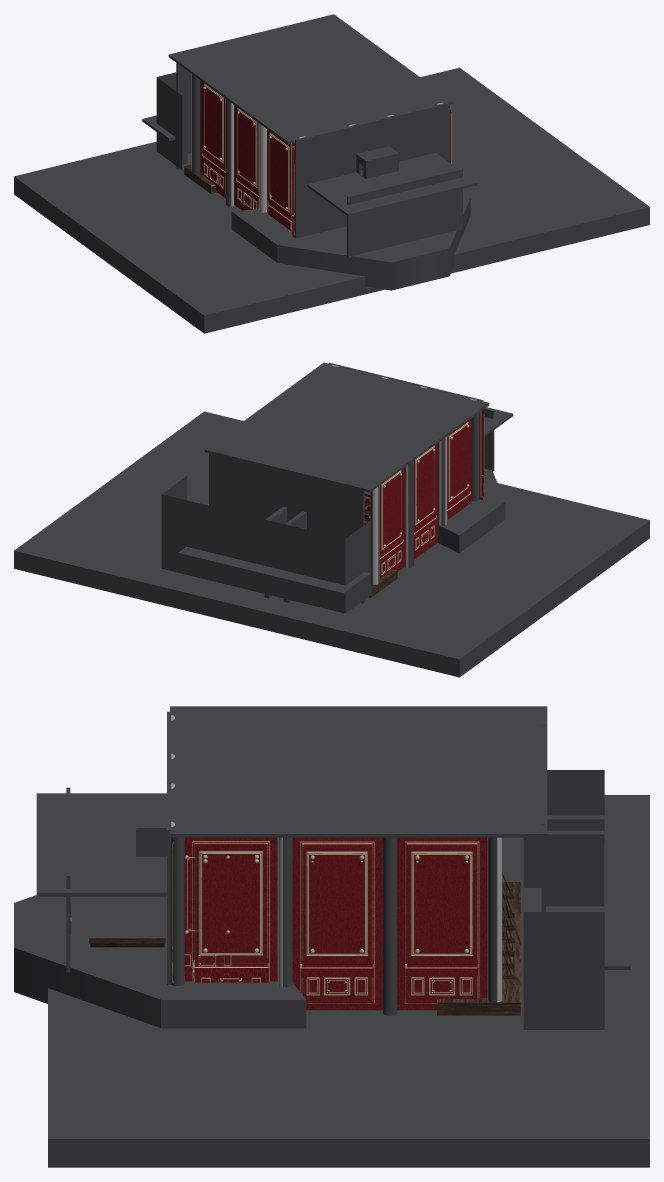
Rendered from Shaded_Part.fbx.
3 renders of one model, top to bottom at view 1: azimuth 30°, elevation 25°; view 2: azimuth 150°, elevation 25°; view 3: azimuth 270°, elevation 25°, orthographic. The views are drawn at different scales.
Parts seen in each view (by area): view 1: HarmoniousTheatrev07:FLOOR, pCube76, pCube68, Wall1_WallPannel3_pCube66, pCube75, pCube70, pCube93, pCube69, HarmoniousTheatrev07:BASEROOM, WallPannel6_pSphere2, pCube71, pCube82 (+4 smaller); view 2: HarmoniousTheatrev07:FLOOR, pCube76, HarmoniousTheatrev07:BASEROOM, Wall1_WallPannel3_pCube66, pCube79, pCube68, WallPannel6_pSphere2, pCube92, pCylinder148, Wall1_WallPannel3_pCube67, pCube80, pCube83 (+2 smaller); view 3: HarmoniousTheatrev07:FLOOR, pCube76, Wall1_WallPannel3_pCube65, pCube68, HarmoniousTheatrev07:BASEROOM, WallPannel6_pSphere1, pCube93, HarmoniousTheatrev07:Walls, pCube92, HarmoniousTheatrev07:STAGE_FOUNDATION, pCylinder147, HarmoniousTheatrev07:LIGHT_ROOM (+5 smaller).
Part boxes in pixels (x1,y1,x2,y2): HarmoniousTheatrev07:FLOOR: [14, 67, 649, 333]; pCube76: [168, 14, 453, 144]; pCube68: [231, 192, 470, 290]; Wall1_WallPannel3_pCube66: [191, 74, 267, 212]; pCube75: [347, 168, 462, 257]; pCube70: [294, 125, 356, 238]; pCube93: [307, 153, 476, 216]; pCube69: [388, 102, 449, 162]; HarmoniousTheatrev07:BASEROOM: [156, 72, 191, 170]; WallPannel6_pSphere2: [267, 129, 292, 231]; pCube71: [355, 117, 388, 153]; pCube82: [176, 63, 187, 169]; HarmoniousTheatrev07:FLOOR: [14, 411, 649, 677]; pCube76: [204, 362, 489, 492]; HarmoniousTheatrev07:BASEROOM: [161, 476, 371, 613]; Wall1_WallPannel3_pCube66: [370, 436, 446, 591]; pCube79: [225, 457, 346, 538]; pCube68: [364, 469, 505, 553]; WallPannel6_pSphere2: [447, 418, 471, 520]; pCube92: [178, 546, 370, 595]; pCylinder148: [472, 412, 479, 501]; Wall1_WallPannel3_pCube67: [332, 364, 485, 499]; pCube80: [209, 453, 218, 507]; pCube83: [345, 482, 356, 538]; HarmoniousTheatrev07:FLOOR: [48, 795, 649, 1167]; pCube76: [170, 706, 547, 837]; Wall1_WallPannel3_pCube65: [277, 837, 502, 1015]; pCube68: [14, 895, 306, 1028]; HarmoniousTheatrev07:BASEROOM: [523, 770, 604, 1029]; WallPannel6_pSphere1: [184, 837, 277, 982]; pCube93: [36, 793, 166, 896]; HarmoniousTheatrev07:Walls: [546, 830, 604, 906]; pCube92: [546, 838, 630, 969]; HarmoniousTheatrev07:STAGE_FOUNDATION: [437, 882, 520, 1015]; pCylinder147: [171, 837, 184, 985]; HarmoniousTheatrev07:LIGHT_ROOM: [137, 802, 166, 856].
Bounding box in the file's own units: 16.61 × 5.06 × 12.98.
